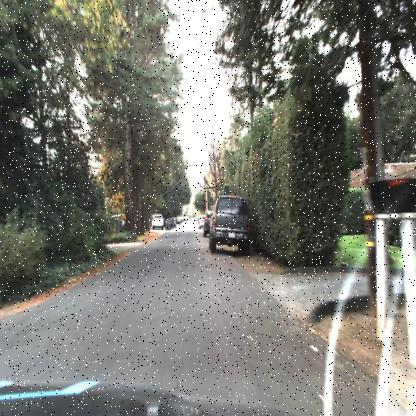car: (206, 192, 250, 260), (150, 208, 164, 232)
